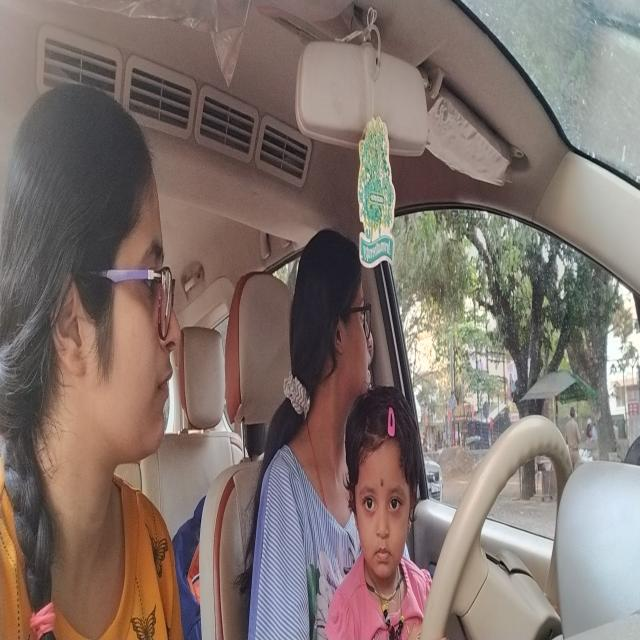child: (342, 379, 428, 590)
person: (3, 71, 186, 518), (284, 215, 380, 432)
